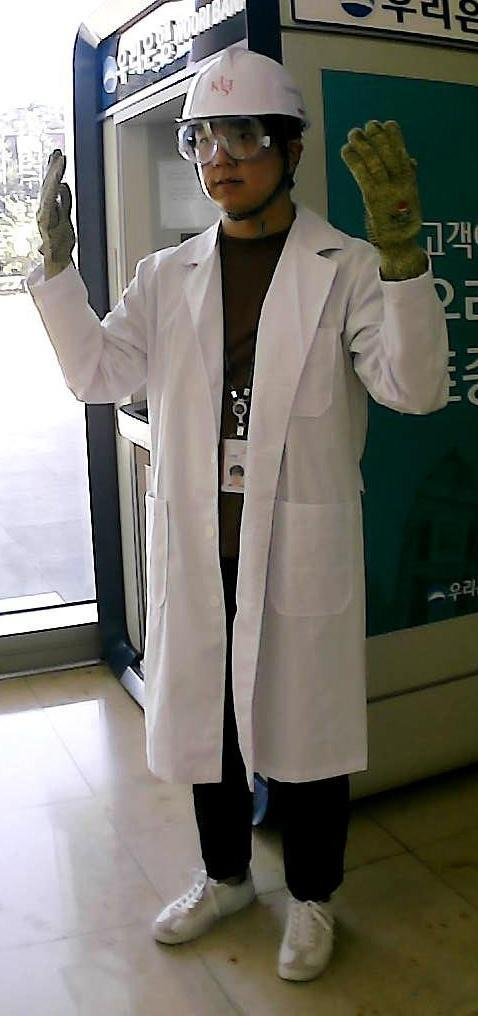lab_coat: (143, 236, 368, 779)
